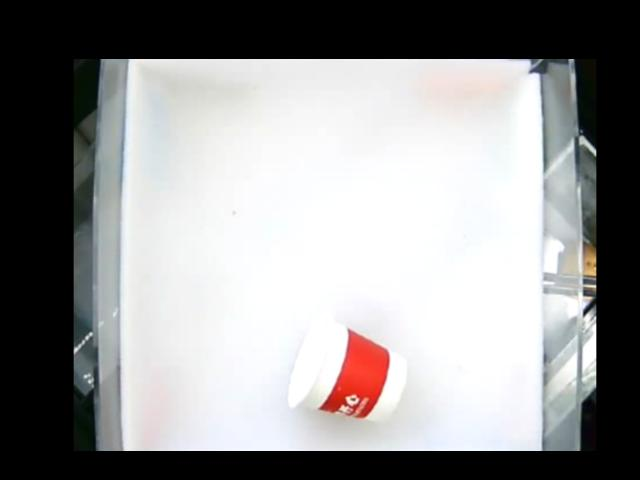Cup: (286, 312, 401, 421)
